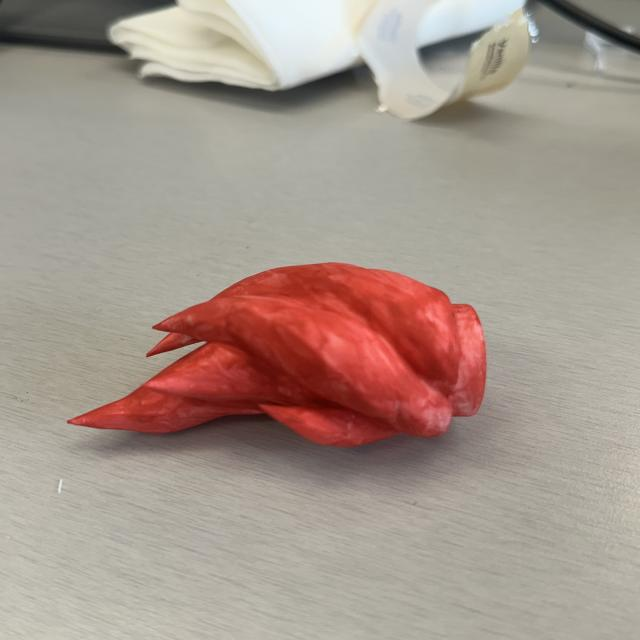fire: (63, 261, 491, 450)
